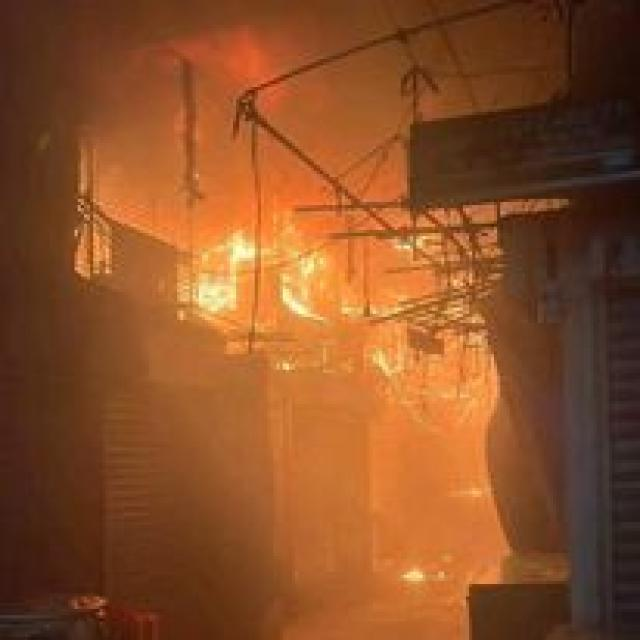Fire: (286, 241, 332, 326), (200, 234, 254, 306)
Smoke: (93, 16, 398, 287)
